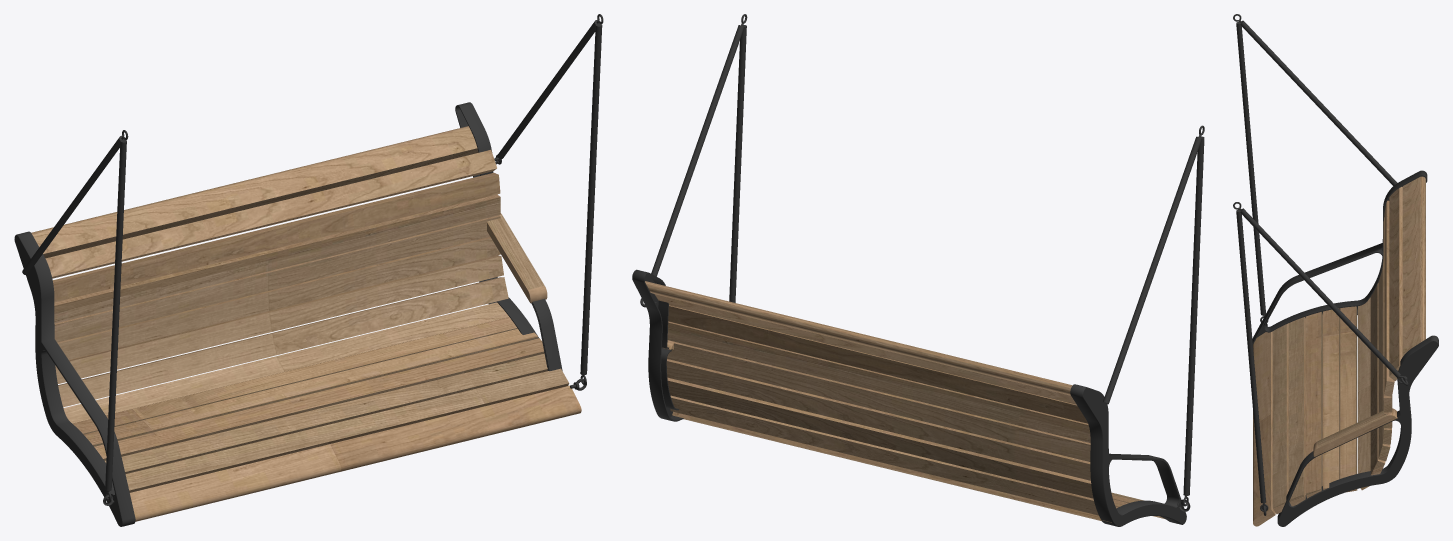
Rendered from house.glb.
3 renders of one model, left to right at view 1: azimuth 30°, elevation 25°; view 2: azimuth 150°, elevation 25°; view 3: azimuth 270°, elevation 25°, orthographic. The views are drawn at different scales.
Visible parts, largest first — view 1: swing; view 2: swing; view 3: swing.
Part boxes in pixels (box(x1,y1,x2,y2)): swing: box(14, 14, 603, 526); swing: box(632, 14, 1204, 526); swing: box(1233, 14, 1438, 526).
Bounding box in the file's own units: 1.69 × 1.36 × 0.7682.
Materials: 2 (1 with a texture image).
